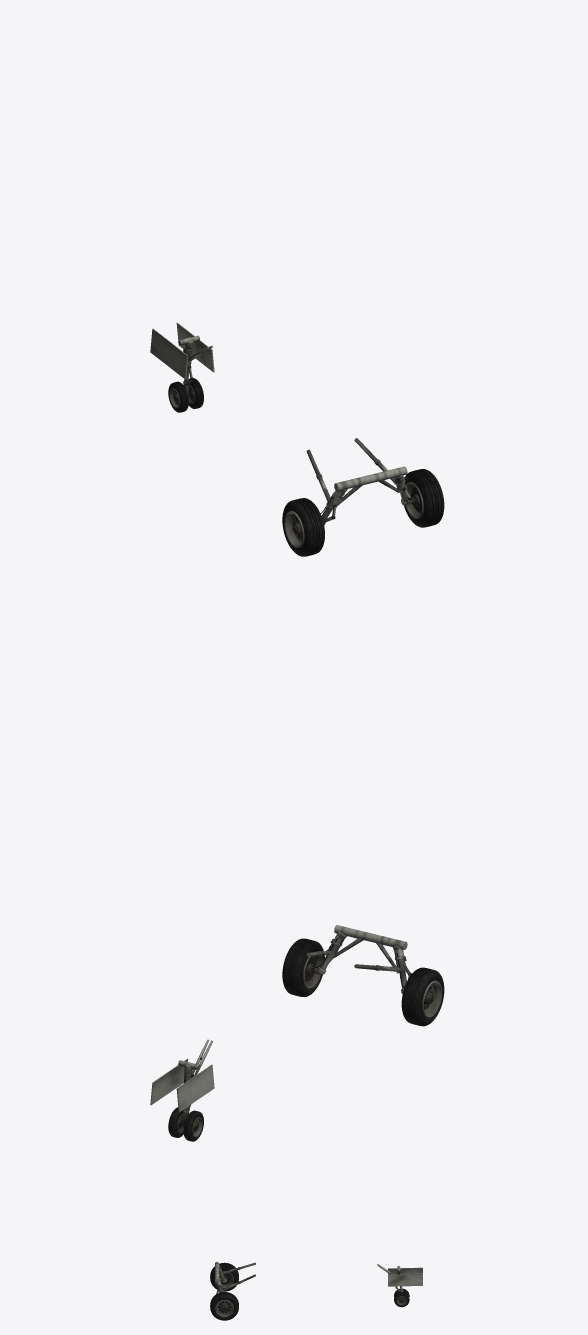
File: f111_gear.glb
The picture shows the model from 3 angles, top to bottom: view 1: azimuth 30°, elevation 25°; view 2: azimuth 150°, elevation 25°; view 3: azimuth 270°, elevation 25°; orthographic projection. The views are drawn at different scales.
Visible parts, largest first — view 1: gear_m, gear_w_l, gear_w_r, gear_n, gear_door_n_l; view 2: gear_m, gear_w_l, gear_w_r, gear_n, gear_door_n_l, gear_door_n_r; view 3: gear_w_r, gear_w_l, gear_door_n_r, gear_m, gear_n.
Part boxes in pixels (x1,y1,x2,y2): gear_m: (306,438,414,525); gear_w_l: (282,498,324,556); gear_w_r: (404,469,444,527); gear_n: (168,335,203,412); gear_door_n_l: (150,328,188,379); gear_m: (306,925,411,993); gear_w_l: (401,967,444,1026); gear_w_r: (282,938,324,996); gear_n: (168,1060,203,1141); gear_door_n_l: (176,1064,214,1112); gear_door_n_r: (150,1058,188,1105); gear_w_r: (210,1292,238,1320); gear_w_l: (210,1262,238,1291); gear_door_n_r: (388,1273,422,1286); gear_m: (215,1261,255,1294); gear_n: (394,1266,409,1307).
Size of the model in its own units: 3.22 by 5.95 by 22.44.
Materials: 1 (1 with a texture image).
